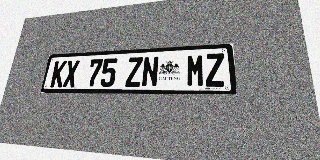5: (100, 58, 118, 87)
7: (86, 59, 103, 87)
K: (50, 61, 67, 87)
M: (186, 54, 205, 87)
N: (141, 56, 159, 87)
X: (62, 60, 80, 87)
Z: (205, 53, 225, 87), (125, 57, 143, 87)
